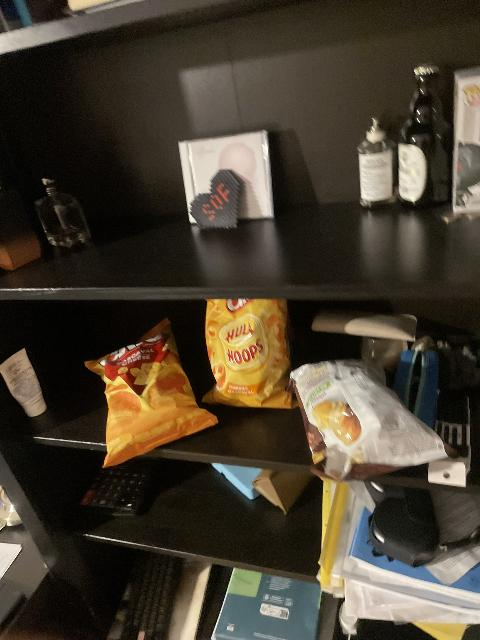Chio Cascaval 125g: (83, 320, 221, 468)
Chio Hula Hoops Cheese 70g: (201, 303, 298, 409)
Lays Beef Grilled Ribs 125g: (288, 358, 450, 486)
